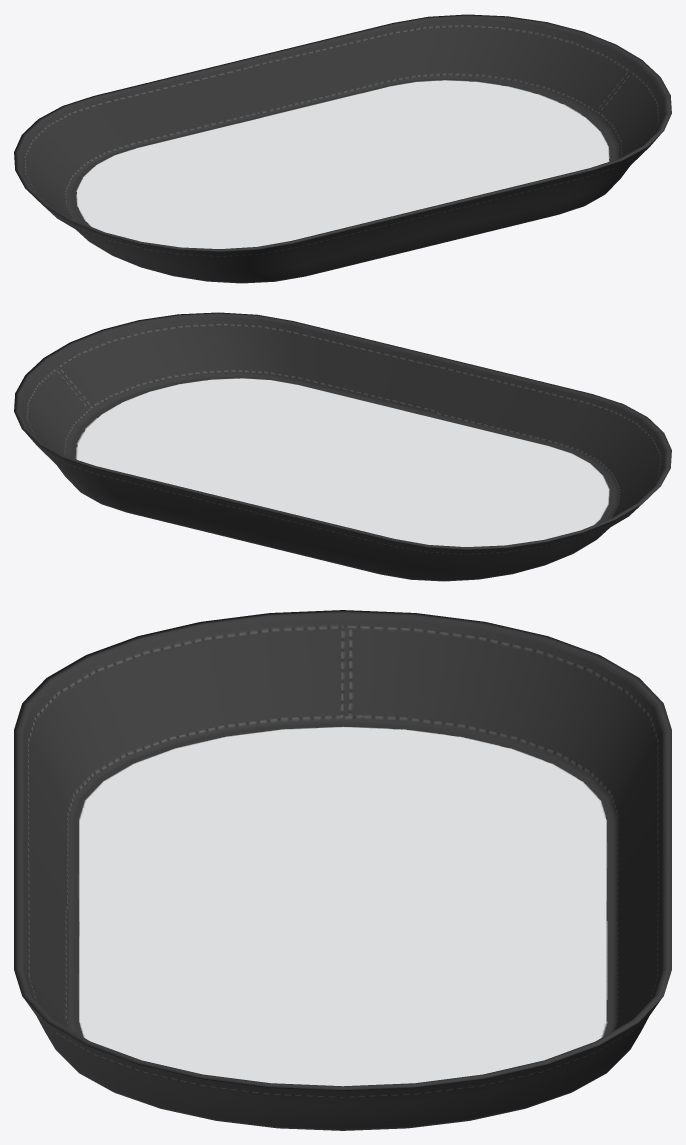
Rendered from BF_stitchware3.glb.
3 renders of one model, top to bottom at view 1: azimuth 30°, elevation 25°; view 2: azimuth 150°, elevation 25°; view 3: azimuth 270°, elevation 25°, orthographic. The views are drawn at different scales.
Visible parts, largest first — view 1: BF_stitchware3.model; view 2: BF_stitchware3.model; view 3: BF_stitchware3.model.
Part boxes in pixels (x1,y1,x2,y2): BF_stitchware3.model: (14, 14, 671, 283); BF_stitchware3.model: (14, 312, 671, 581); BF_stitchware3.model: (14, 610, 671, 1130).
Size of the model in its own units: 0.2579 by 0.0196 by 0.1495.
1 material, 1 textured.
